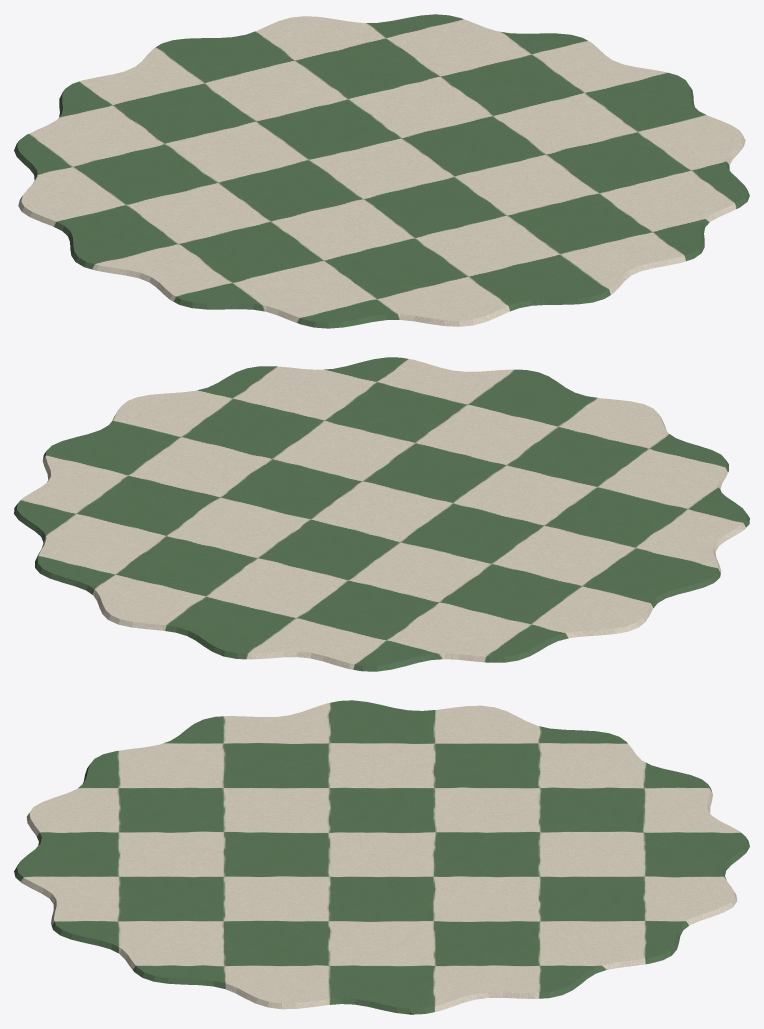
Rendered from rug-wavy-checker.glb.
3 renders of one model, top to bottom at view 1: azimuth 30°, elevation 25°; view 2: azimuth 150°, elevation 25°; view 3: azimuth 270°, elevation 25°, orthographic.
Visible parts, largest first — view 1: rug-wavy-checker; view 2: rug-wavy-checker; view 3: rug-wavy-checker.
Part boxes in pixels (left/top/right/bottom): rug-wavy-checker: left=14, top=14, right=749, bottom=328; rug-wavy-checker: left=14, top=357, right=749, bottom=671; rug-wavy-checker: left=14, top=700, right=749, bottom=1014.
Bounding box in the file's own units: 1.5 × 0.0101 × 1.5.
Materials: 1 (1 with a texture image).
